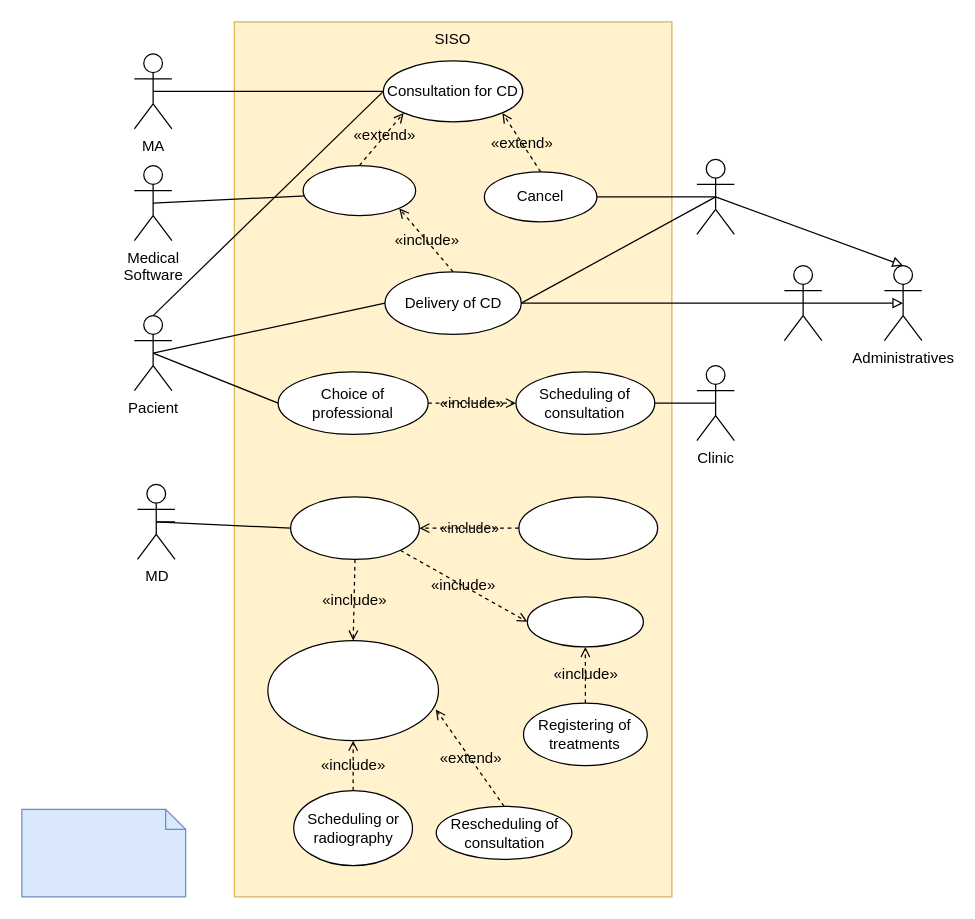
Some shapes in this 975 by 919 pixel diagram are drawn without their labels. Here are the shapes that lost their labels. From the top down, the centre of each, then its label:
At [359,190]: "Emission".
At [715,196]: "Superior Administer".
At [802,302]: "Regular Administer".
At [354,527]: "Consultation".
At [588,527]: "Search of CD of pacient".
At [584,621]: "Treatment".
At [352,690]: "Planning of treatments and registering of diagnostics".
At [103,852]: "AS-Ex 2.4c Grupo 601 (DF, DC, ST, FC) v2022/03/16".
